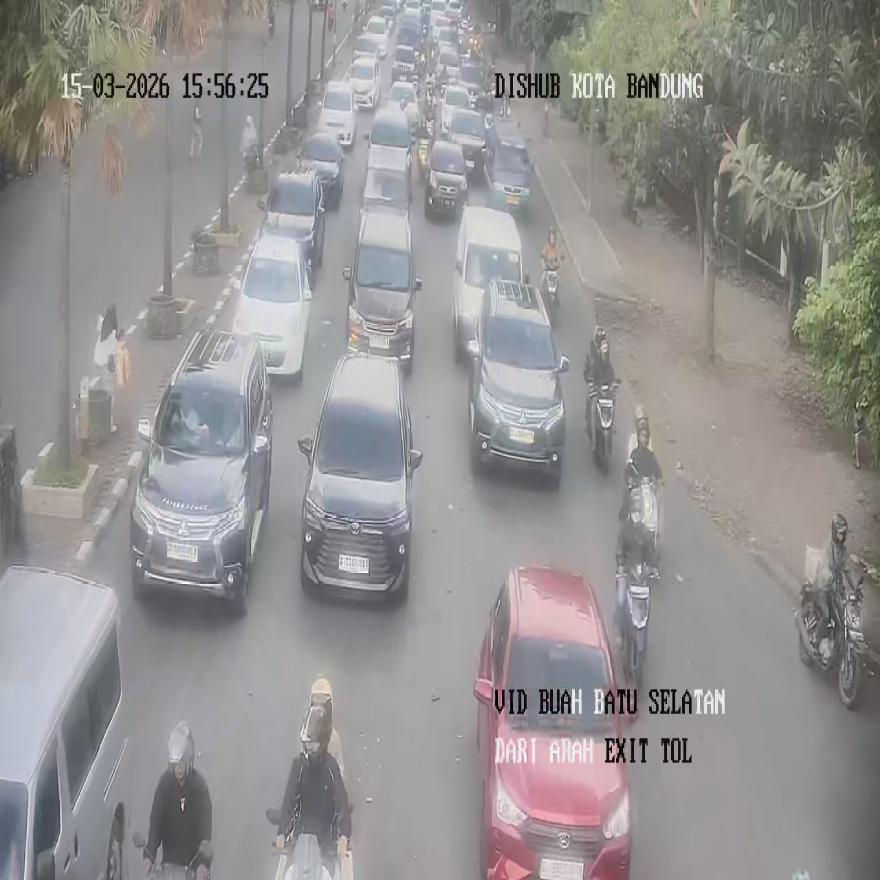Motor: (474, 564, 634, 878), (0, 564, 132, 878), (130, 328, 272, 611), (297, 352, 421, 599), (466, 278, 569, 480), (342, 208, 421, 372), (232, 233, 313, 382), (452, 202, 526, 360), (257, 167, 325, 285), (361, 102, 412, 210)
Truk: (798, 570, 866, 708), (266, 808, 352, 880), (616, 565, 654, 694), (132, 832, 212, 880), (627, 472, 660, 561), (589, 380, 616, 474), (541, 258, 559, 319), (852, 407, 866, 469), (327, 2, 334, 32), (268, 2, 274, 36)
